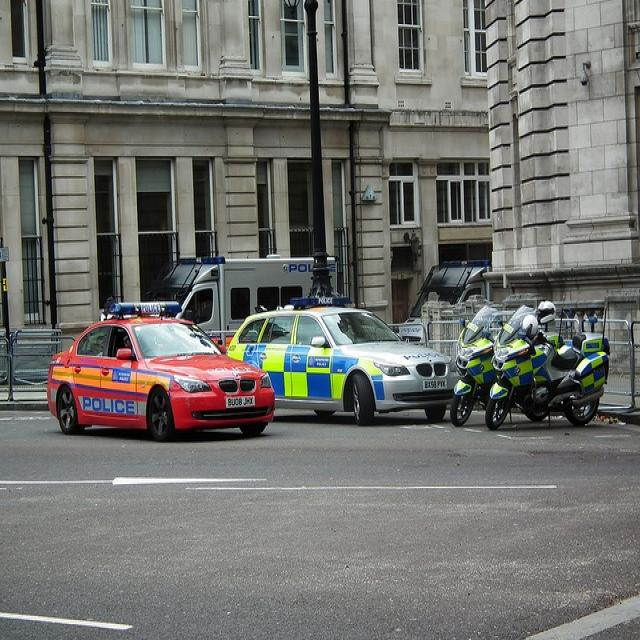car: (45, 314, 276, 442), (230, 296, 457, 416)
motorbike: (485, 303, 609, 429), (447, 301, 495, 423)
pole: (300, 0, 334, 289), (39, 112, 56, 325)
truck: (158, 253, 313, 343)
